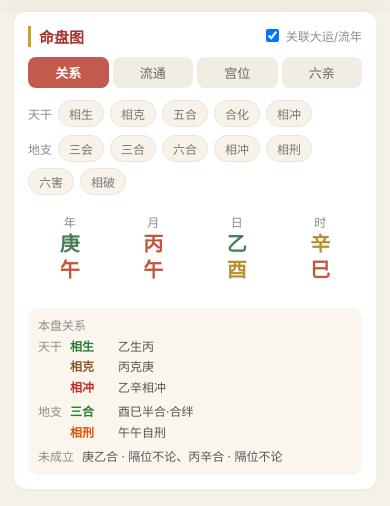
Scenario: 宫位 tab › shows palace mapping and relative role per pillar
Click the button with test id "tab-gongwei" at {"x": 237, "y": 72}, box left=197, top=57, right=278, bottom=88
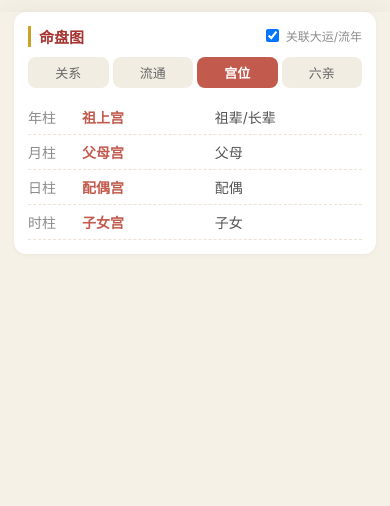
Now the text with test id "palace-year" reads "祖上宫", box left=82, top=109, right=124, bottom=126
Now the text with test id "palace-day" reads "配偶宫", box left=82, top=179, right=124, bottom=196
Now the text "祖辈/长辈" is shown, box left=215, top=109, right=276, bottom=126
